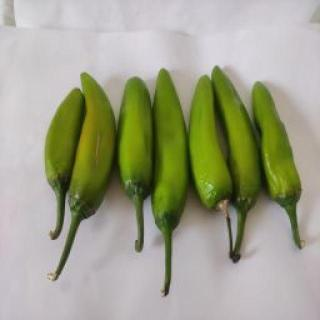Cabai Hijau: (251, 79, 310, 252), (148, 68, 190, 302), (39, 87, 87, 245)
